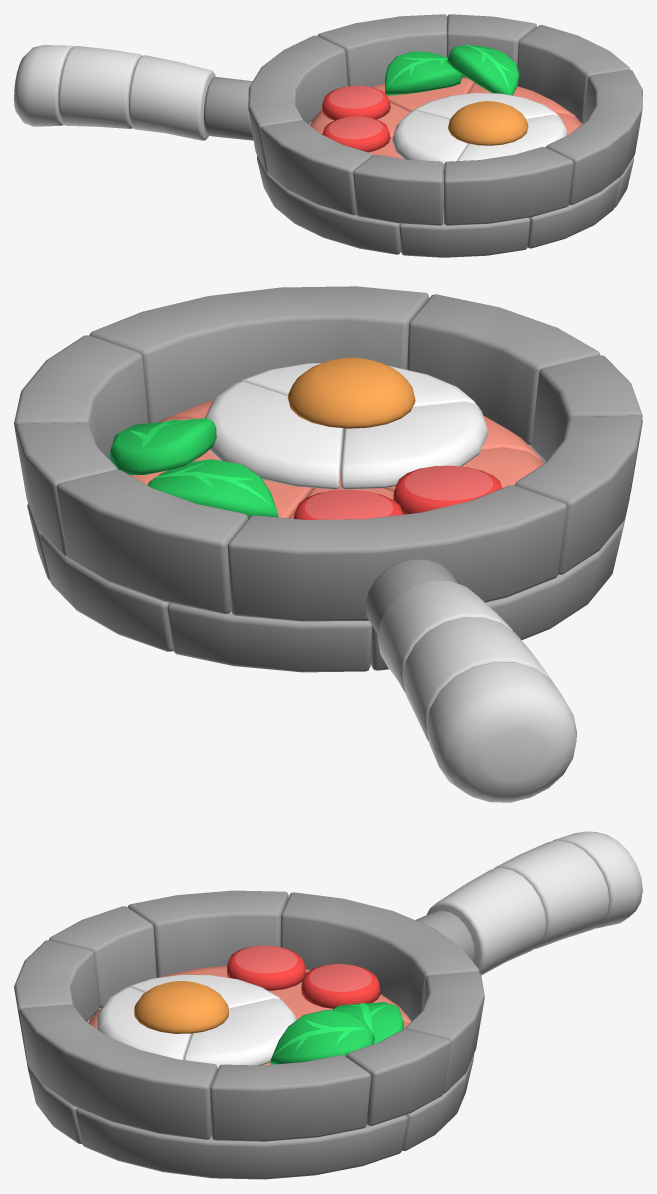
File: Level_P_26.fbx
The picture shows the model from 3 angles, top to bottom: view 1: azimuth 30°, elevation 25°; view 2: azimuth 150°, elevation 25°; view 3: azimuth 270°, elevation 25°; orthographic projection. The views are drawn at different scales.
Parts seen in each view (by area): view 1: Cube.277, Cube.278, Cube.273, Cube.275, Cube.279, Cube.271, Cube.276, Cube.270, Cube.274, Cube.281, Cube.286, Cube.269 (+14 smaller); view 2: Cube.273, Cube.278, Cube.274, Cube.269, Cube.277, Cube.275, Cube.282, Cube.279, Cube.296, Cube.294, Cube.295, Cube.270 (+14 smaller); view 3: Cube.278, Cube.284, Cube.273, Cube.279, Cube.275, Cube.271, Cube.270, Cube.280, Cube.276, Cube.274, Cube.277, Cube.296 (+12 smaller).
Part boxes in pixels (<box>): Cube.277: <box>444,147,573,225</box>; Cube.278: <box>546,70,642,204</box>; Cube.273: <box>248,35,348,171</box>; Cube.275: <box>261,120,372,215</box>; Cube.279: <box>517,25,630,123</box>; Cube.271: <box>128,55,215,140</box>; Cube.276: <box>353,154,443,225</box>; Cube.270: <box>58,46,141,128</box>; Cube.274: <box>317,14,447,86</box>; Cube.281: <box>257,155,400,254</box>; Cube.286: <box>399,210,530,257</box>; Cube.269: <box>14,45,73,126</box>; Cube.273: <box>227,485,567,621</box>; Cube.278: <box>89,286,429,423</box>; Cube.274: <box>56,469,247,613</box>; Cube.269: <box>426,662,576,802</box>; Cube.277: <box>407,294,599,444</box>; Cube.275: <box>515,415,642,574</box>; Cube.282: <box>167,603,371,672</box>; Cube.279: <box>14,335,148,460</box>; Cube.296: <box>205,381,343,489</box>; Cube.294: <box>341,401,488,489</box>; Cube.295: <box>287,357,415,428</box>; Cube.270: <box>402,617,550,741</box>; Cube.278: <box>19,1004,217,1139</box>; Cube.284: <box>75,1108,407,1179</box>; Cube.273: <box>280,892,479,1021</box>; Cube.279: <box>210,1055,370,1141</box>; Cube.275: <box>128,890,288,977</box>; Cube.271: <box>427,868,546,975</box>; Cube.270: <box>494,840,609,948</box>; Cube.280: <box>346,1029,450,1125</box>; Cube.276: <box>49,906,156,1007</box>; Cube.274: <box>405,971,484,1093</box>; Cube.277: <box>14,940,99,1061</box>; Cube.296: <box>184,998,296,1069</box>.
Bounding box in the file's own units: 10.41 × 1.96 × 10.31.
